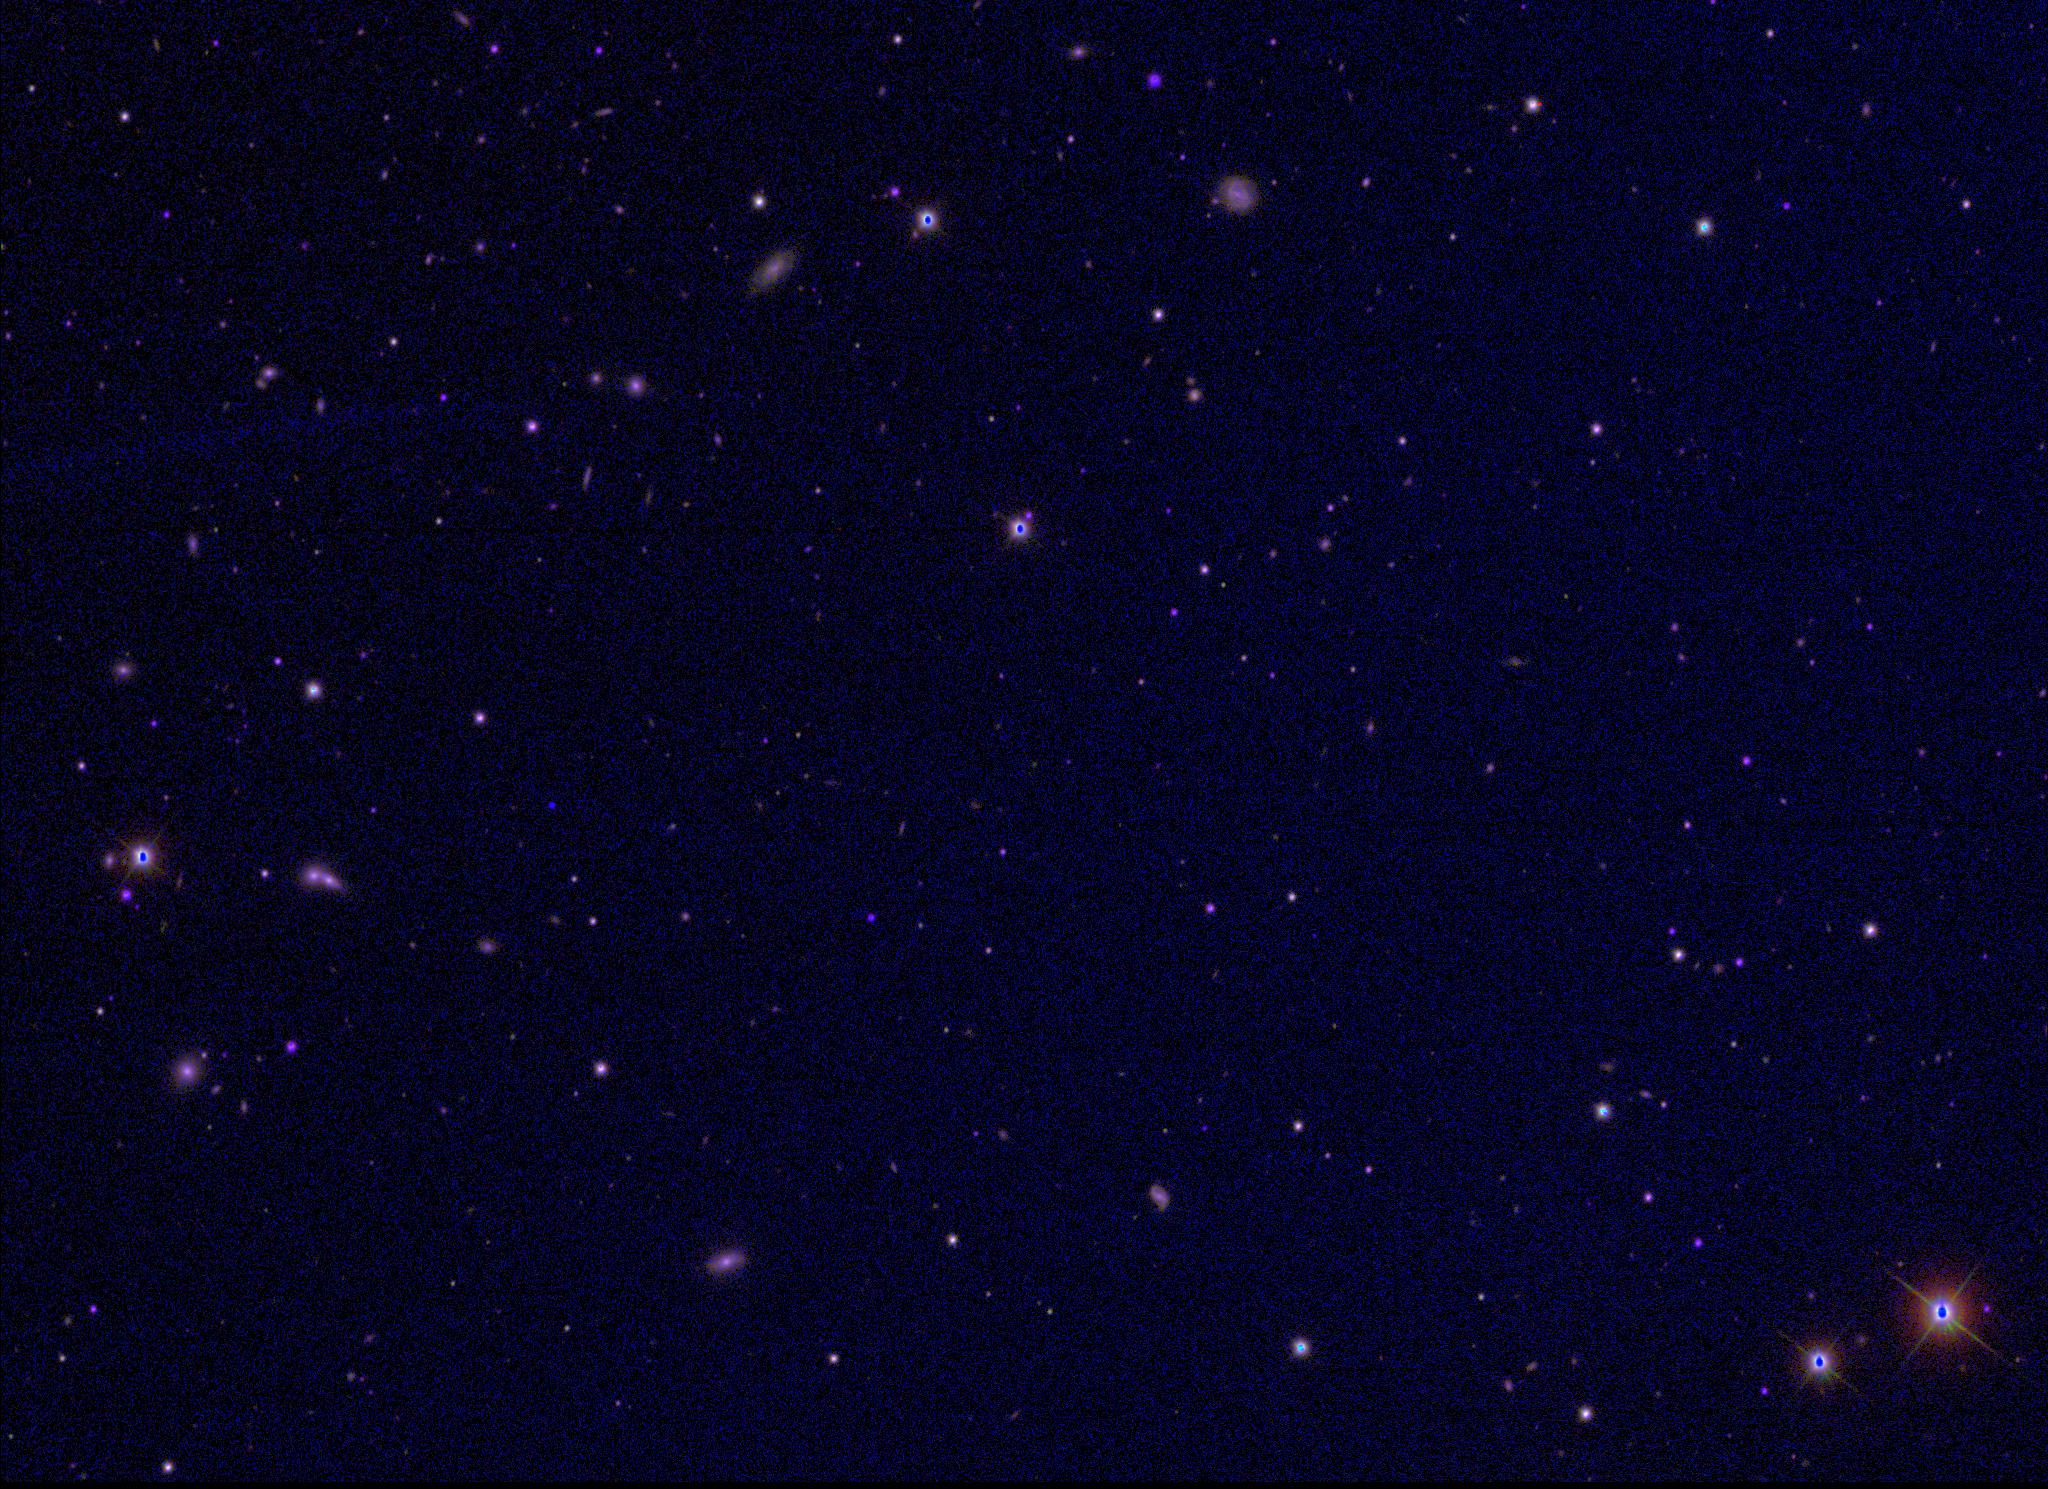L: (545, 799, 560, 811)
